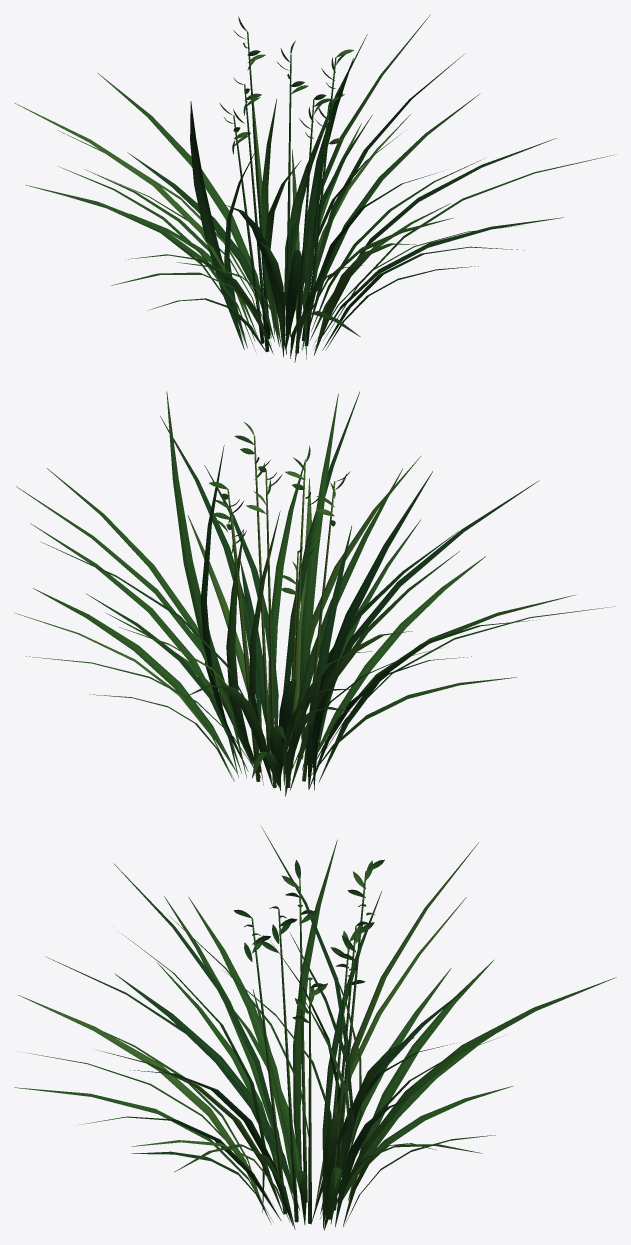
File: Ornamental_grass_2.glb
3 views of the same model, one above another, from view 1: azimuth 30°, elevation 25°; view 2: azimuth 150°, elevation 25°; view 3: azimuth 270°, elevation 25° (orthographic). The views are drawn at different scales.
Parts seen in each view (by area): view 1: Ornamental_grass_2_Leaves.004, Ornamental_grass_2_Stems.003; view 2: Ornamental_grass_2_Leaves.004, Ornamental_grass_2_Stems.003; view 3: Ornamental_grass_2_Leaves.004, Ornamental_grass_2_Stems.003.
Part boxes in pixels (x1,y1,x2,y2): Ornamental_grass_2_Leaves.004: [14, 14, 616, 362]; Ornamental_grass_2_Stems.003: [233, 31, 336, 353]; Ornamental_grass_2_Leaves.004: [14, 391, 615, 796]; Ornamental_grass_2_Stems.003: [227, 436, 335, 788]; Ornamental_grass_2_Leaves.004: [14, 825, 616, 1230]; Ornamental_grass_2_Stems.003: [251, 871, 366, 1223].
Bounding box in the file's own units: 2.44 × 1.38 × 2.18.
Materials: 1 (1 with a texture image).
